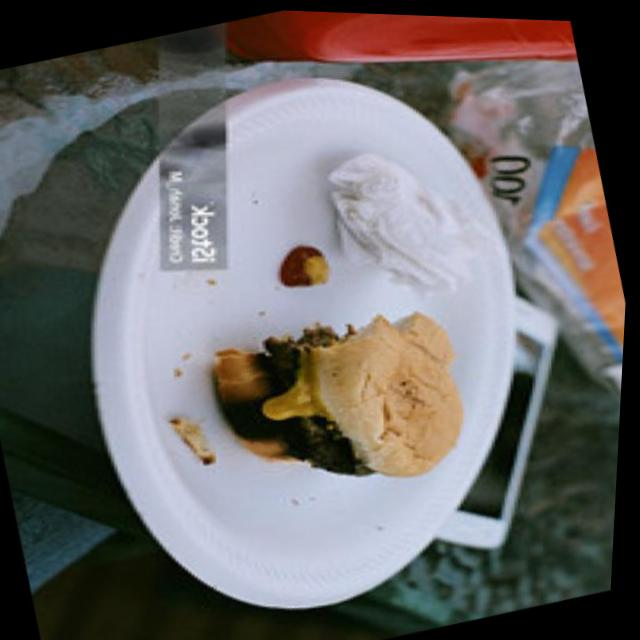fabric: (124, 243, 529, 577), (248, 211, 351, 311)
food: (263, 94, 536, 340)
leaf: (0, 0, 640, 640), (156, 5, 587, 184)
